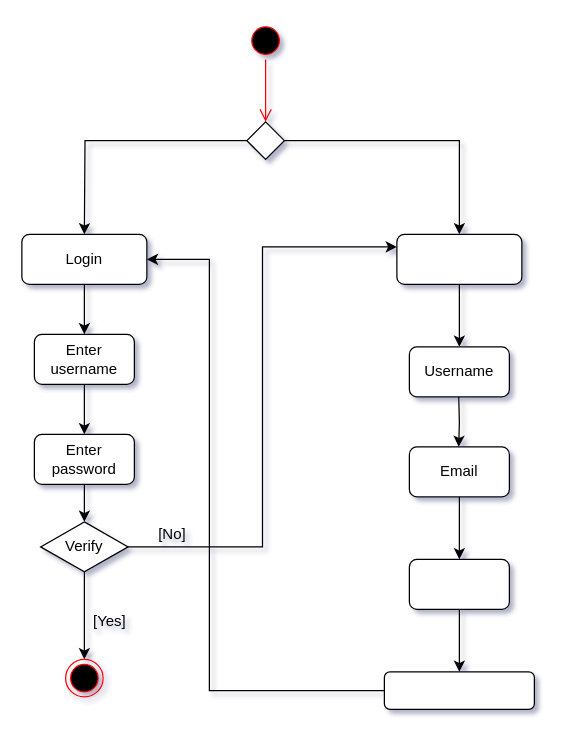
The diagram is 564 pixels wide and 739 high, and some of its shapes have lost their labels. The box of each missing label's shape, as (x1, y1, x2, y2) in pixels:
Password: (408, 558, 509, 609)
Register: (396, 233, 522, 284)
Successfully registered: (383, 671, 534, 709)
